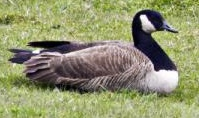goose: (7, 7, 189, 102)
